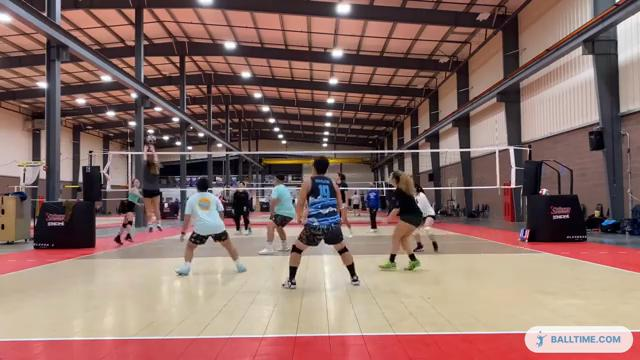Block: (138, 143, 166, 234)
Player: (283, 157, 359, 288), (176, 177, 245, 275), (379, 171, 421, 270), (259, 174, 294, 254), (142, 135, 161, 231), (114, 179, 140, 244), (413, 184, 438, 251), (232, 182, 251, 234), (366, 188, 379, 231), (337, 173, 347, 208)
ball: (142, 134, 160, 146)
